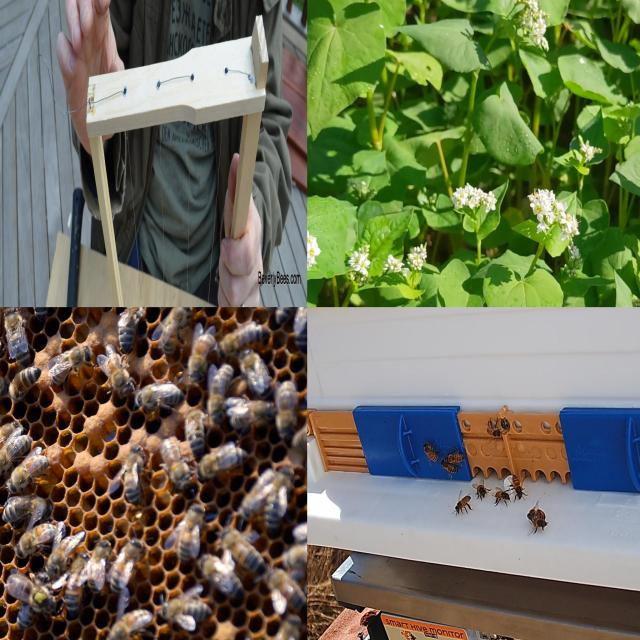honeybee: (40, 340, 97, 400), (199, 432, 252, 483), (106, 530, 159, 580), (263, 558, 315, 608), (170, 580, 213, 640), (203, 550, 242, 616), (165, 490, 202, 558), (110, 597, 168, 640), (59, 574, 102, 626), (230, 522, 268, 580), (255, 456, 284, 532), (0, 473, 43, 524), (154, 429, 191, 486), (268, 384, 302, 444), (230, 377, 268, 429), (11, 457, 63, 494), (106, 344, 134, 411), (107, 444, 146, 492), (140, 371, 179, 418), (2, 407, 40, 454), (81, 524, 115, 576), (110, 311, 148, 354), (208, 356, 229, 430), (158, 300, 187, 353), (22, 569, 61, 608), (222, 306, 255, 348), (18, 521, 62, 549), (44, 520, 70, 565), (8, 366, 39, 403), (242, 346, 268, 386), (183, 331, 210, 369), (186, 406, 207, 438), (283, 303, 303, 333), (0, 324, 23, 349), (522, 504, 546, 524), (510, 472, 525, 495), (445, 448, 464, 465), (491, 480, 505, 500), (452, 491, 468, 507), (421, 440, 433, 456), (486, 419, 497, 436), (438, 461, 451, 473), (473, 477, 485, 489)
